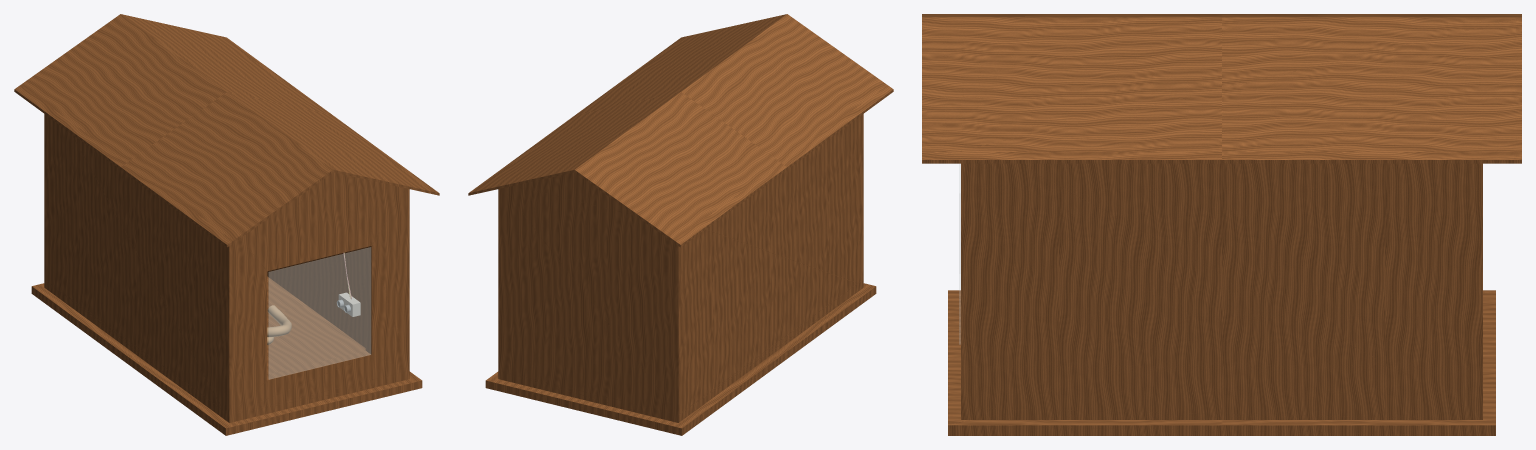
The model's file is cat-house.glb.
3 views of the same model, side by side, from view 1: azimuth 30°, elevation 25°; view 2: azimuth 150°, elevation 25°; view 3: azimuth 270°, elevation 25° (orthographic). The views are drawn at different scales.
Visible parts, largest first — view 1: Left removable roof, Left insulated wall, Front insulated gable, Right removable roof, Clear entrance flap, Insulated floor, Base plinth, Right insulated wall, Rear insulated gable, Cat_tail; view 2: Rear insulated gable, Left removable roof, Left insulated wall, Right removable roof, Base plinth, Insulated floor, Front insulated gable; view 3: Right insulated wall, Right removable roof, Base plinth, Insulated floor, Front insulated gable, Rear insulated gable, Left removable roof.
Boxes of the visible parts, left/top/right/bottom form: Left removable roof: left=14, top=14, right=333, bottom=247; Left insulated wall: left=50, top=118, right=223, bottom=410; Front insulated gable: left=223, top=172, right=409, bottom=414; Right removable roof: left=121, top=14, right=439, bottom=195; Clear entrance flap: left=268, top=247, right=370, bottom=379; Insulated floor: left=44, top=276, right=409, bottom=422; Base plinth: left=31, top=283, right=422, bottom=435; Right insulated wall: left=267, top=247, right=365, bottom=347; Rear insulated gable: left=44, top=114, right=49, bottom=282; Cat_tail: left=267, top=305, right=291, bottom=337; Rear insulated gable: left=498, top=172, right=684, bottom=414; Left removable roof: left=574, top=14, right=893, bottom=247; Left insulated wall: left=684, top=118, right=857, bottom=410; Right removable roof: left=468, top=14, right=786, bottom=195; Base plinth: left=485, top=283, right=876, bottom=435; Insulated floor: left=498, top=279, right=863, bottom=422; Front insulated gable: left=858, top=114, right=863, bottom=282; Right insulated wall: left=977, top=163, right=1466, bottom=407; Right removable roof: left=922, top=17, right=1521, bottom=163; Base plinth: left=948, top=290, right=1495, bottom=435; Insulated floor: left=961, top=408, right=1482, bottom=419; Front insulated gable: left=961, top=163, right=977, bottom=407; Rear insulated gable: left=1466, top=163, right=1482, bottom=407; Left removable roof: left=922, top=14, right=1521, bottom=17.
Bounding box in the file's own units: 0.53 × 0.594 × 0.92.
65 materials, 1 textured.
